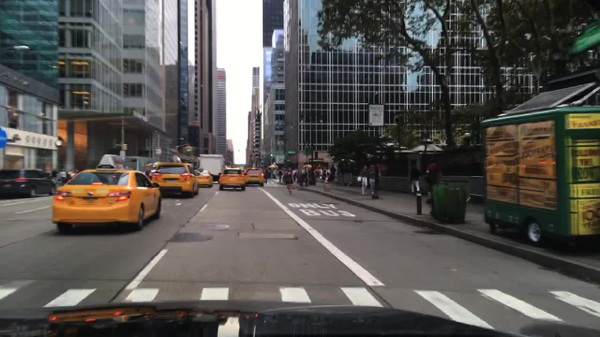car: (52, 154, 162, 235), (148, 162, 199, 198), (1, 169, 52, 198), (219, 167, 245, 191), (193, 169, 213, 187), (246, 168, 264, 187), (242, 168, 244, 173)
person: (427, 159, 441, 205), (410, 160, 421, 197), (368, 164, 376, 194), (361, 166, 368, 196), (287, 168, 294, 195), (59, 168, 67, 185), (330, 163, 336, 181), (322, 168, 329, 179), (278, 169, 283, 184), (318, 168, 323, 179)
traffic light: (122, 143, 128, 150), (187, 147, 190, 153), (270, 152, 273, 158), (274, 163, 277, 169), (185, 146, 187, 154), (191, 144, 192, 152)
traffic sign: (368, 104, 383, 127), (0, 130, 8, 151), (286, 150, 296, 154), (156, 149, 162, 154), (307, 148, 312, 154)
truck: (199, 155, 224, 184), (123, 155, 148, 176)
